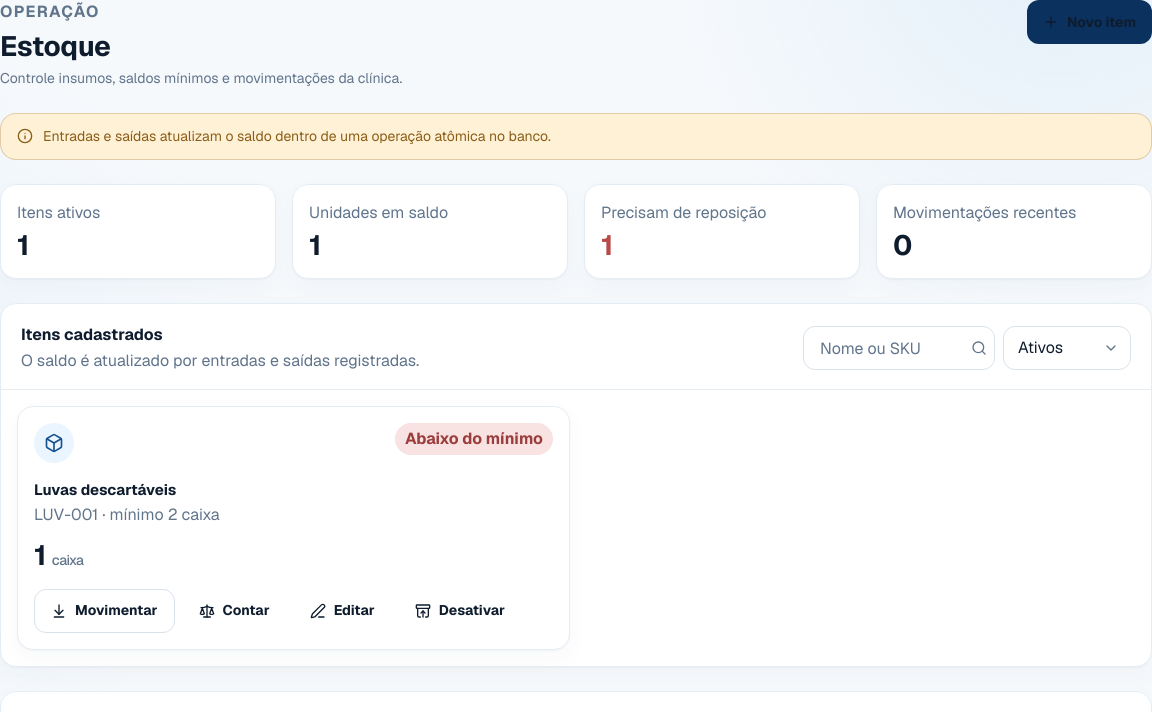
it: ajuste por contagem › falha do servidor continua indo para o alerta
Click the button "Contar": (234, 611) [182,589,286,633]
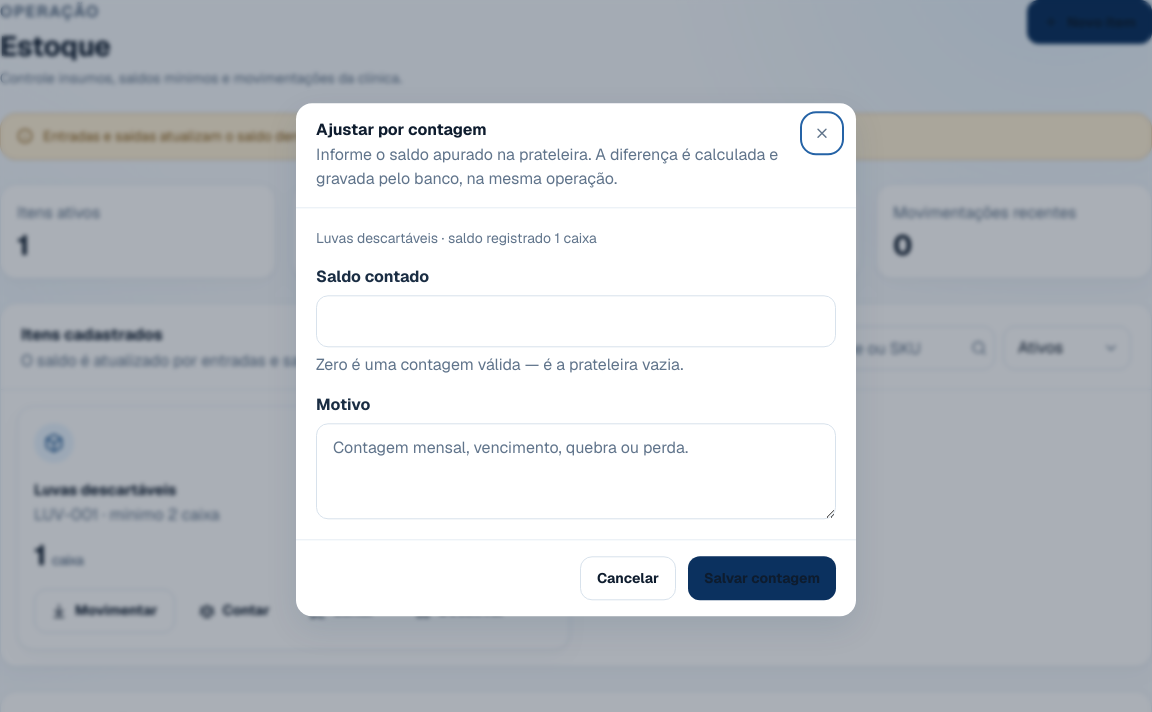
In the number field labelled "Saldo contado": (576, 322) [316,296,836,348], type "4"
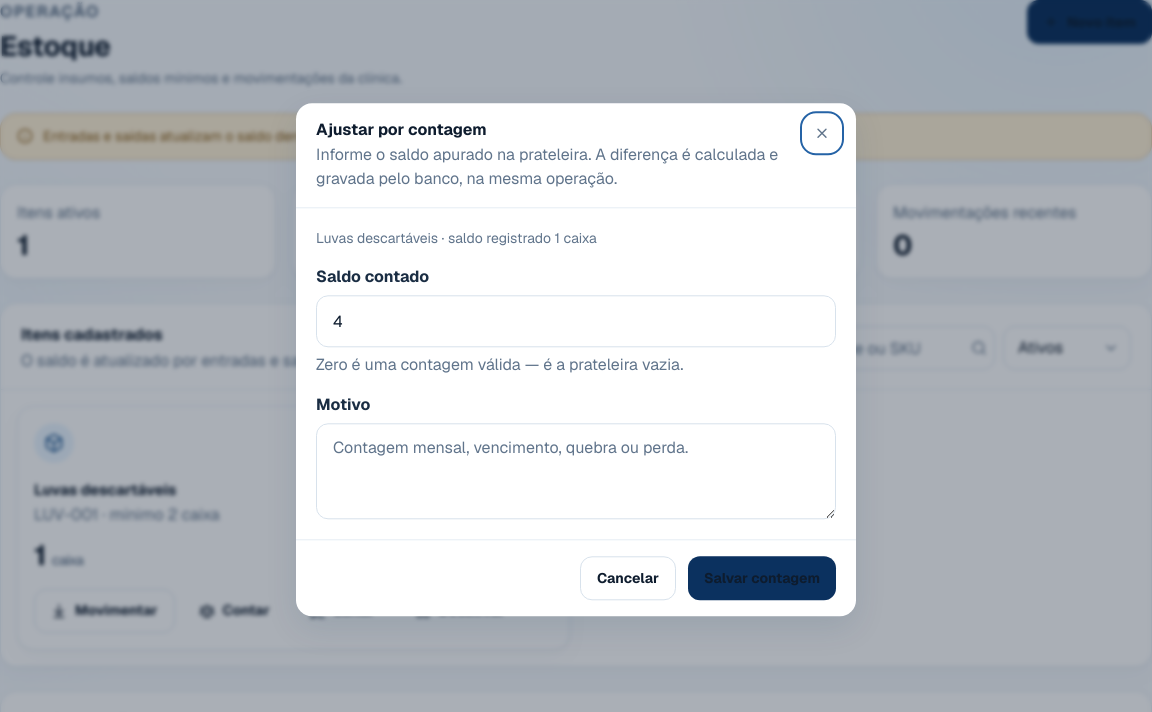
Click the button "Salvar contagem": (762, 579) [688,557,836,601]
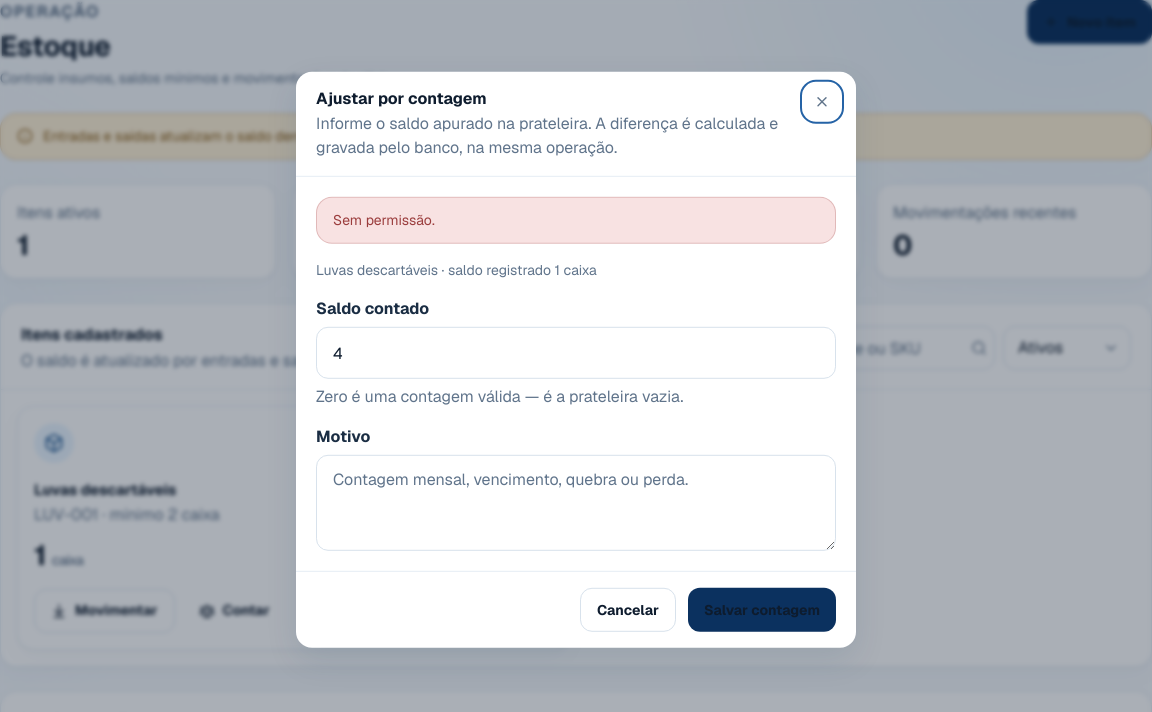
expect the message reads "Sem permissão.": met, box [333,211,435,229]
